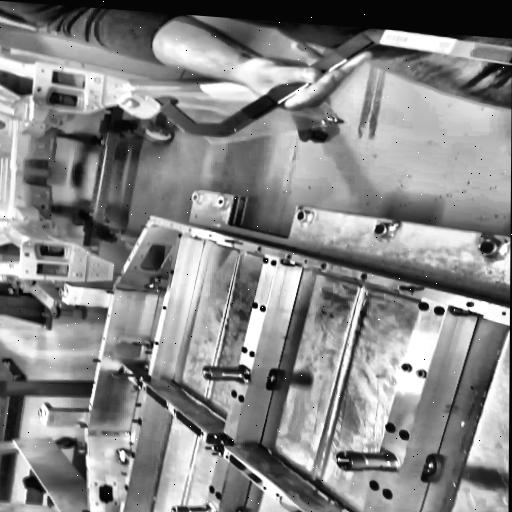busbar: (119, 27, 512, 137)
